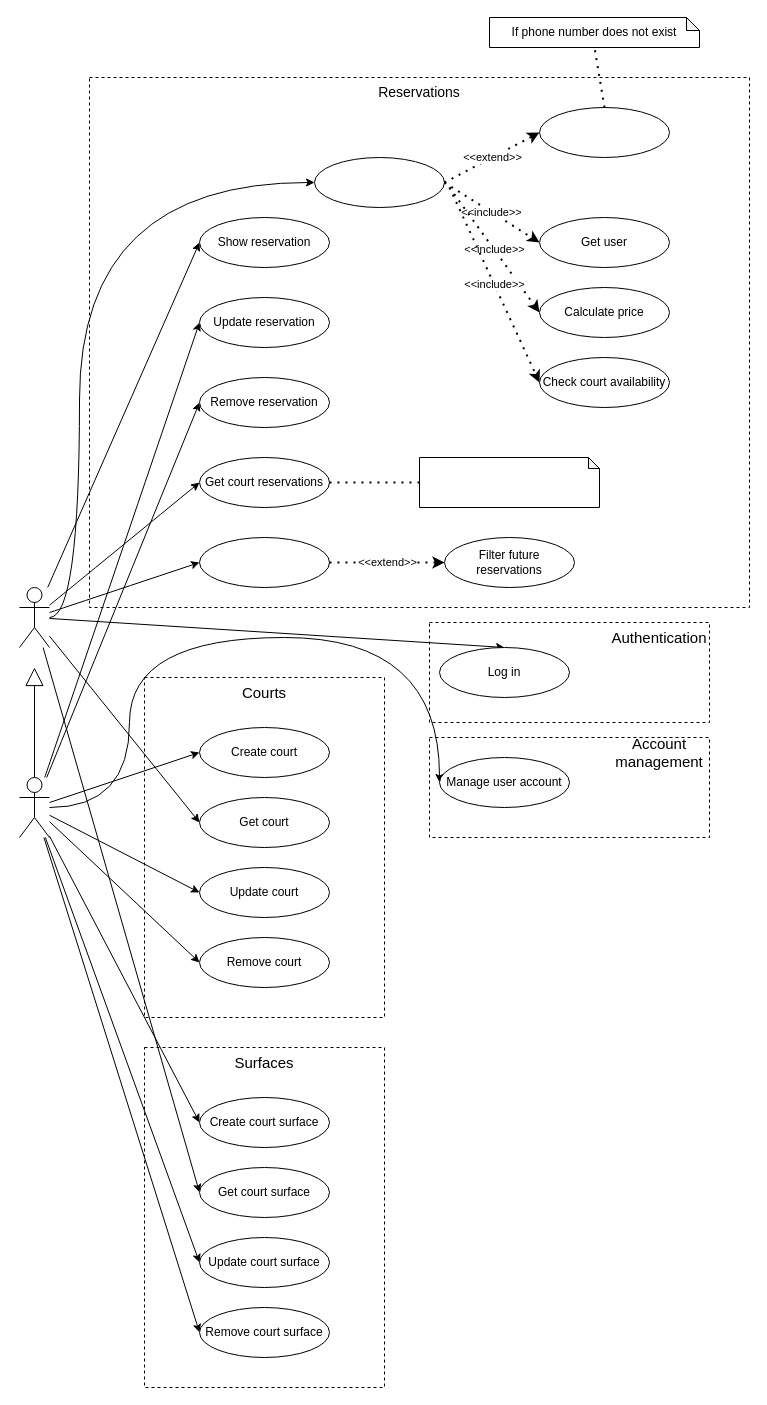
This 767x1405 diagram has some shape labels left out. The shapes that lost their labels are listed below. From the top down, each one's centre as x and y in pixels, then its label:
the point at 604,132: Create user
the point at 379,182: Create reservation
the point at 509,482: Sorted by reservation creation date
the point at 264,562: Get reservations by phone number
the point at 34,617: User
the point at 34,807: Admin
